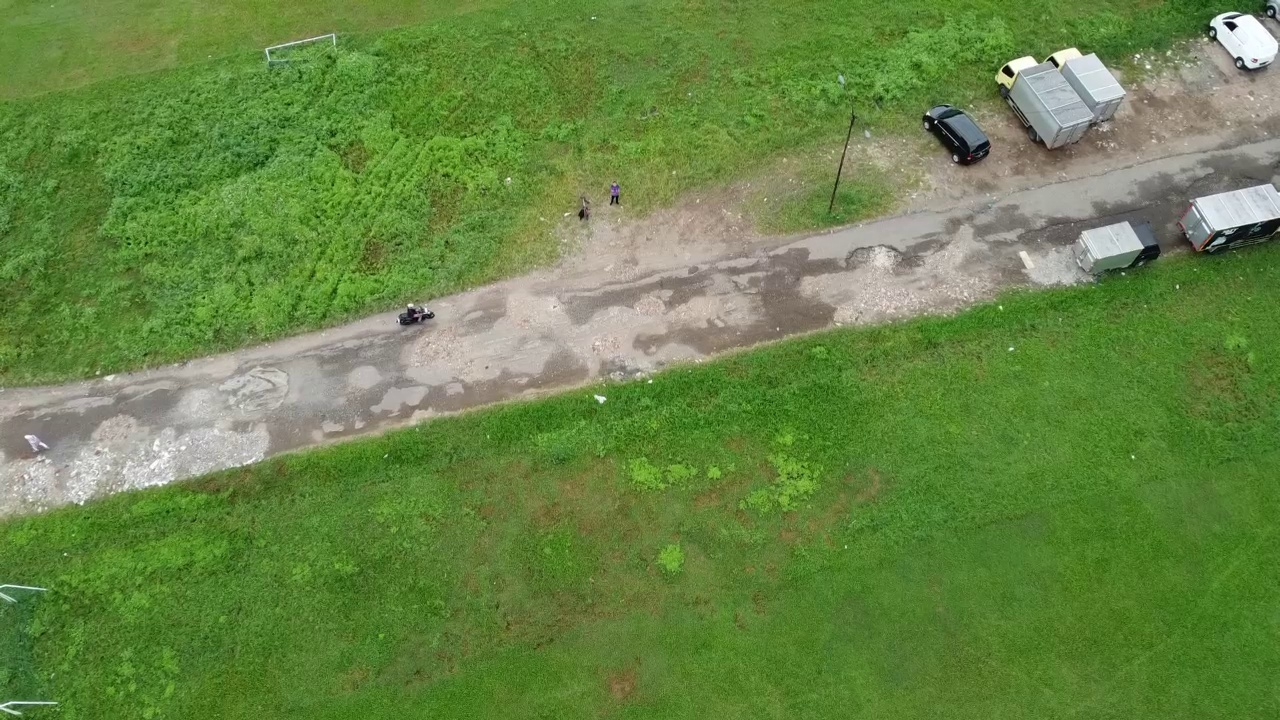mobil: (1195, 6, 1277, 87), (915, 98, 996, 170)
